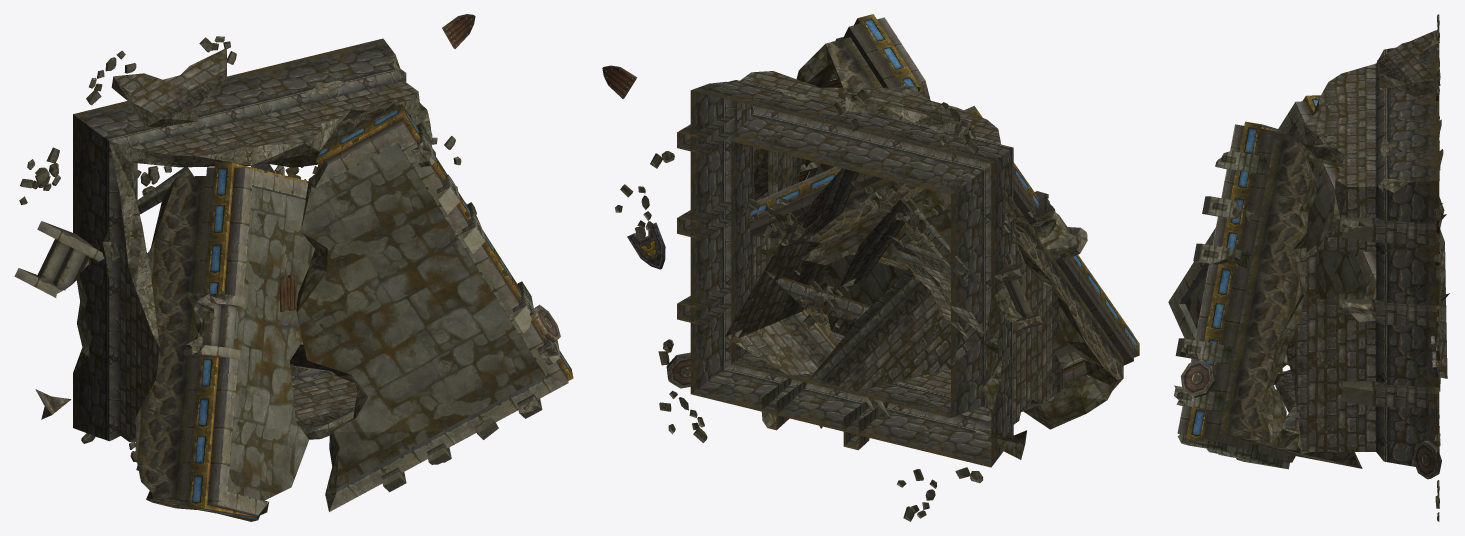
Rendered from juqing_yewai_564_posun06.obj.
3 renders of one model, left to right at view 1: azimuth 30°, elevation 25°; view 2: azimuth 150°, elevation 25°; view 3: azimuth 270°, elevation 25°, orthographic. The views are drawn at different scales.
Visible parts, largest first — view 1: juqing_yewai_564_posun06; view 2: juqing_yewai_564_posun06; view 3: juqing_yewai_564_posun06.
Boxes of the visible parts, x1,y1,x2,y2 form: juqing_yewai_564_posun06: [14, 14, 573, 521]; juqing_yewai_564_posun06: [602, 14, 1139, 521]; juqing_yewai_564_posun06: [1168, 14, 1449, 521].
Bounding box in the file's own units: 1858 × 1714 × 1073.
13 materials, 13 textured.
